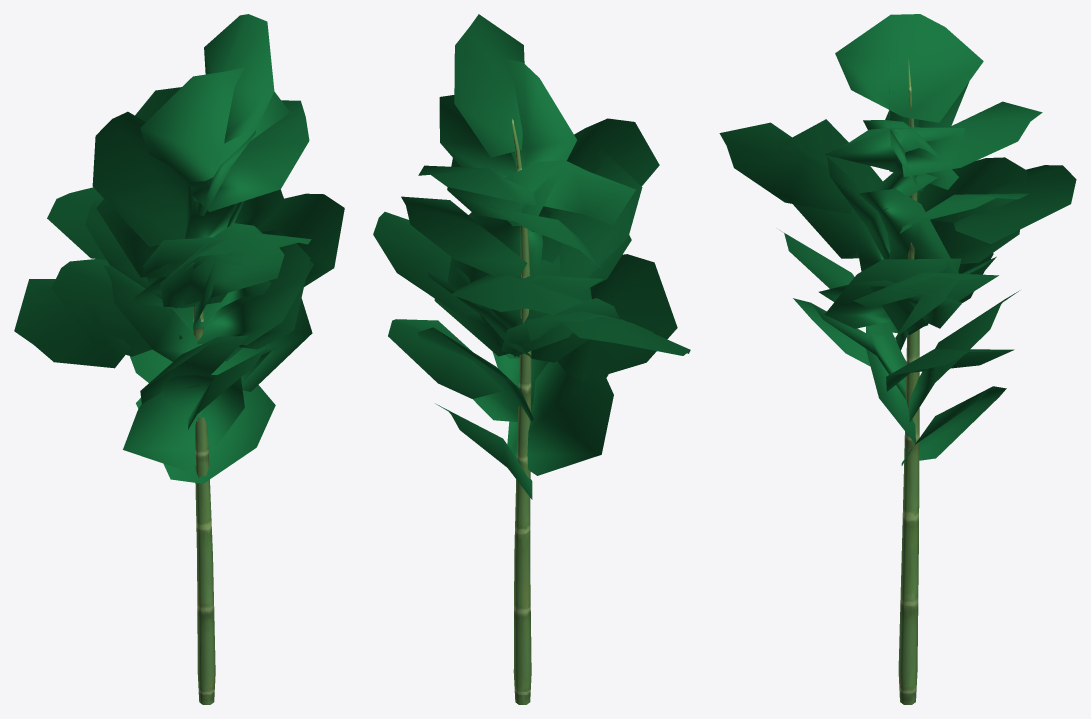
The model's file is SM_BambooSapling4.fbx.
3 renders of one model, left to right at view 1: azimuth 30°, elevation 25°; view 2: azimuth 150°, elevation 25°; view 3: azimuth 270°, elevation 25°, orthographic. The views are drawn at different scales.
Visible parts, largest first — view 1: SM_BambooSapling4_LOD0; view 2: SM_BambooSapling4_LOD0; view 3: SM_BambooSapling4_LOD0.
Part boxes in pixels (bbox=[...]): SM_BambooSapling4_LOD0: bbox=[14, 14, 344, 704]; SM_BambooSapling4_LOD0: bbox=[373, 14, 690, 704]; SM_BambooSapling4_LOD0: bbox=[719, 14, 1076, 704].
Size of what is drawn, in the model's own units: 5.11 by 4.72 by 10.43.
